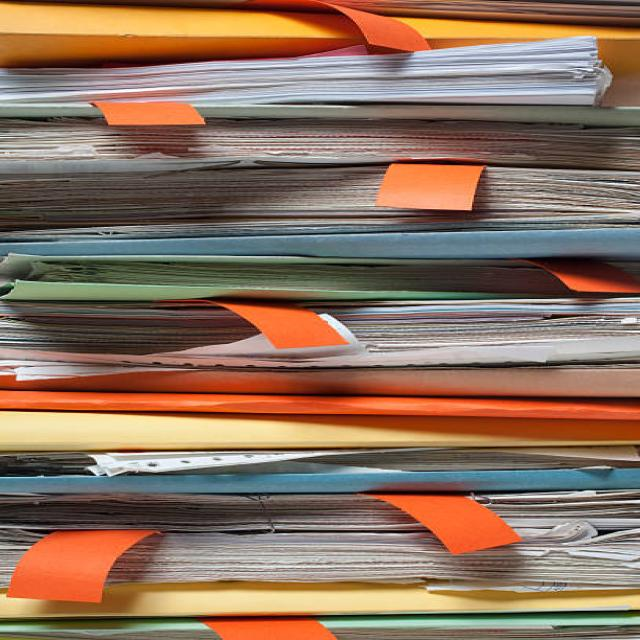electronic: (0, 34, 613, 107), (0, 158, 638, 228), (0, 253, 638, 300), (373, 161, 485, 211), (88, 100, 205, 126)
